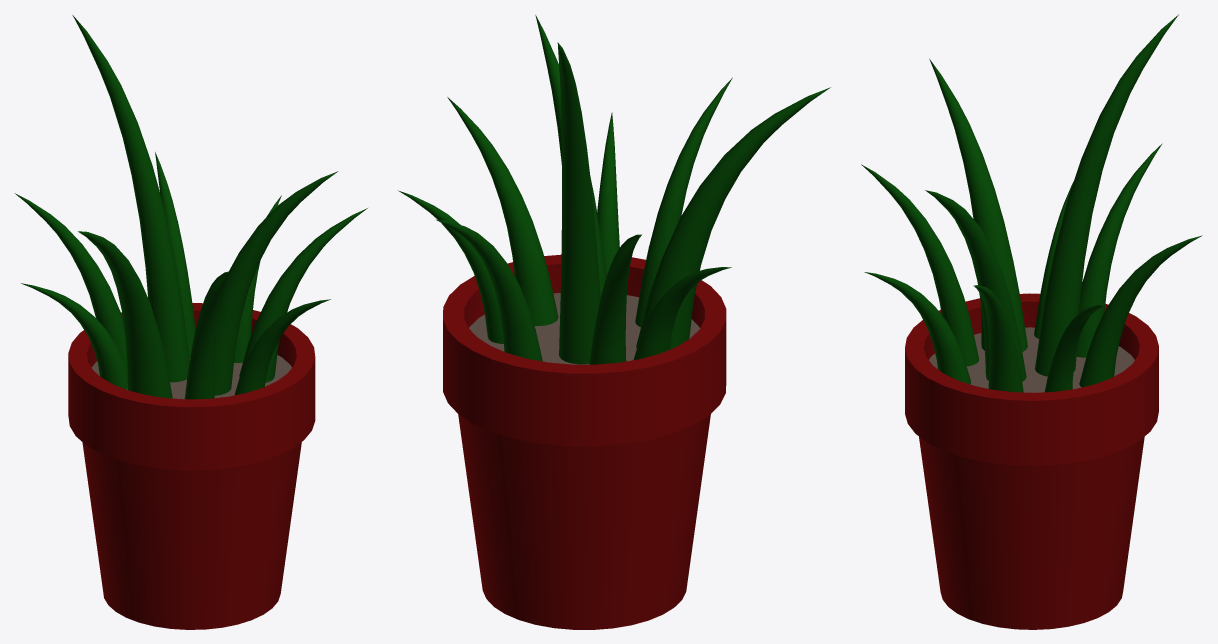
The model's file is Plante5_4.fbx.
3 views of the same model, side by side, from view 1: azimuth 30°, elevation 25°; view 2: azimuth 150°, elevation 25°; view 3: azimuth 270°, elevation 25° (orthographic). The views are drawn at different scales.
Visible parts, largest first — view 1: pCylinder723, pCone18, pCone17, pCone15, pCone10, pCone12, pCone14, pCone19, pCone16, pCone11, pCone13, pCylinder722; view 2: pCylinder723, pCone18, pCone17, pCone12, pCone14, pCone11, pCone10, pCone19, pCylinder722, pCone16, pCone13, pCone15; view 3: pCylinder723, pCone18, pCone17, pCone14, pCone10, pCone11, pCone15, pCone12, pCone16, pCylinder722, pCone13, pCone19.
Boxes of the visible parts, left/top/right/bottom form: pCylinder723: left=68, top=303, right=315, bottom=629; pCone18: left=72, top=15, right=189, bottom=382; pCone17: left=78, top=231, right=172, bottom=398; pCone15: left=214, top=171, right=338, bottom=395; pCone10: left=14, top=193, right=127, bottom=370; pCone12: left=239, top=208, right=367, bottom=382; pCone14: left=184, top=271, right=229, bottom=399; pCone19: left=21, top=283, right=127, bottom=389; pCone16: left=234, top=299, right=330, bottom=395; pCone11: left=155, top=152, right=195, bottom=357; pCone13: left=234, top=195, right=281, bottom=362; pCylinder722: left=91, top=355, right=291, bottom=399; pCylinder723: left=443, top=254, right=726, bottom=629; pCone18: left=557, top=42, right=600, bottom=364; pCone17: left=636, top=87, right=830, bottom=349; pCone12: left=447, top=97, right=558, bottom=325; pCone14: left=635, top=77, right=732, bottom=327; pCone11: left=436, top=219, right=542, bottom=361; pCone10: left=589, top=234, right=641, bottom=364; pCone19: left=633, top=267, right=731, bottom=360; pCylinder722: left=469, top=293, right=700, bottom=364; pCone16: left=597, top=112, right=619, bottom=274; pCone13: left=398, top=190, right=503, bottom=343; pCone15: left=535, top=15, right=606, bottom=297; pCylinder723: left=905, top=293, right=1158, bottom=629; pCone18: left=1035, top=14, right=1178, bottom=376; pCone17: left=929, top=58, right=1027, bottom=351; pCone14: left=861, top=164, right=979, bottom=366; pCone10: left=1076, top=143, right=1162, bottom=357; pCone11: left=1079, top=235, right=1202, bottom=387; pCone15: left=925, top=190, right=1026, bottom=381; pCone12: left=973, top=285, right=1023, bottom=392; pCone16: left=864, top=272, right=970, bottom=384; pCylinder722: left=929, top=327, right=1134, bottom=392; pCone13: left=1044, top=304, right=1105, bottom=392; pCone19: left=1034, top=181, right=1073, bottom=338.
Bounding box in the file's own units: 16.39 × 26.9 × 15.12.
